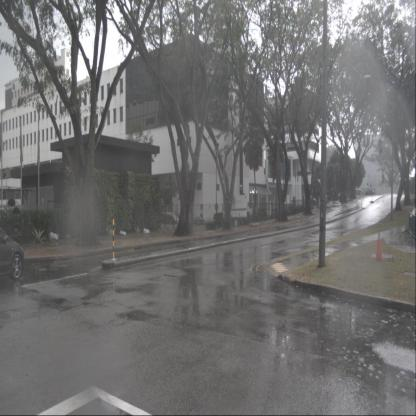cone: (374, 232, 384, 264)
